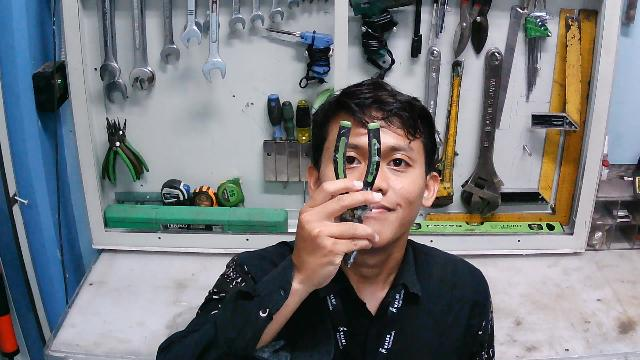tang_kombinasi: (327, 119, 382, 272)
